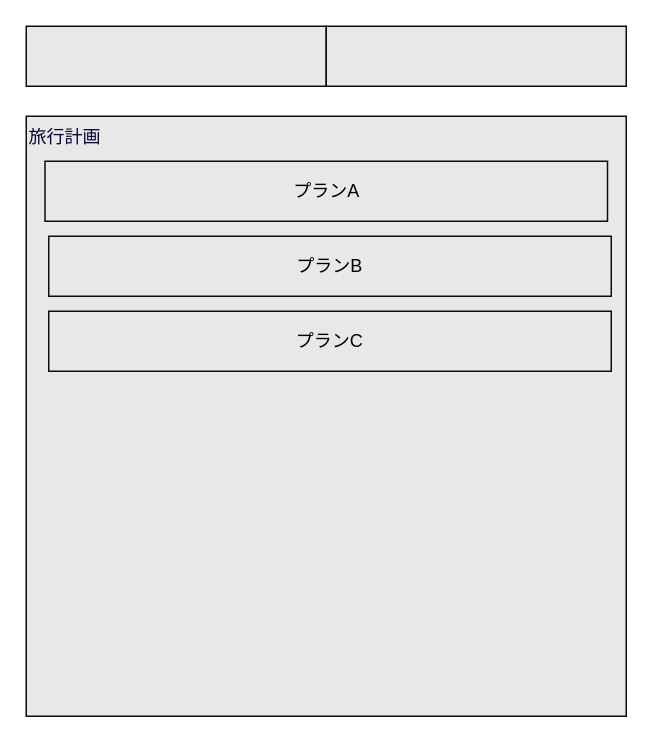
Some shapes in this 653 by 743 pixel diagram are drawn without their labels. Here are the shapes that lost their labels. From the top down, the centre of each, then its label:
point (175, 55): スケジュール作成
point (475, 55): 旅行項目登録
